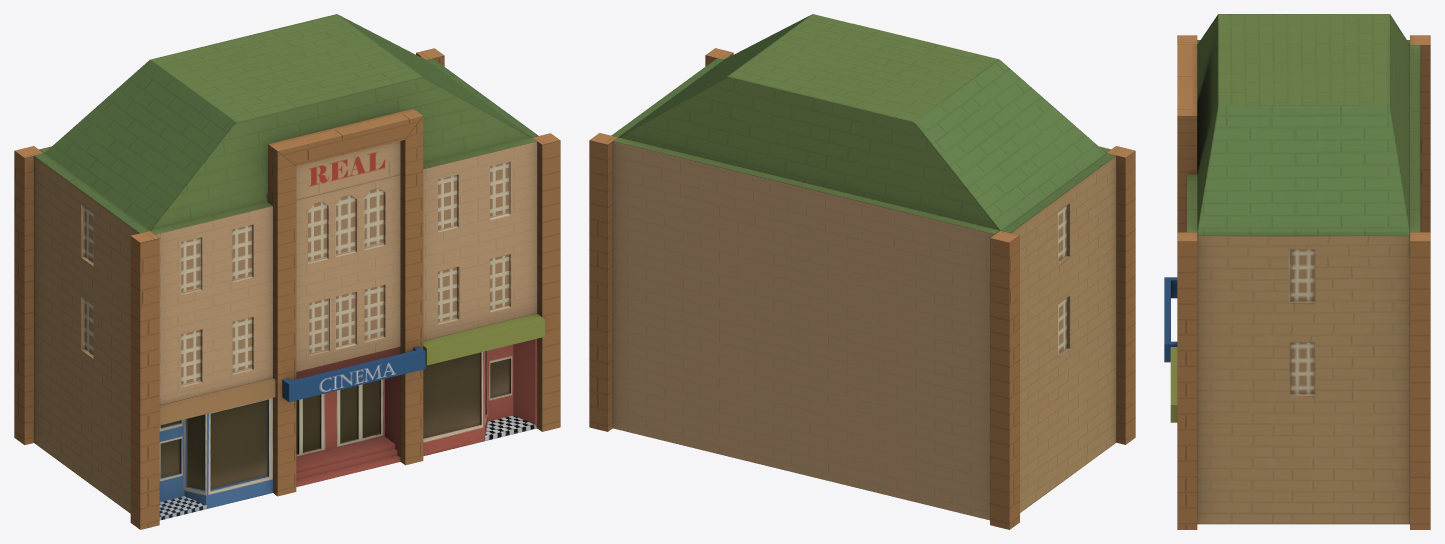
Rendered from Cinema.gltf.
3 views of the same model, side by side, from view 1: azimuth 30°, elevation 25°; view 2: azimuth 150°, elevation 25°; view 3: azimuth 270°, elevation 25° (orthographic).
Parts seen in each view (by area): view 1: node-0; view 2: node-0; view 3: node-0.
Boxes of the visible parts, box(x1,y1,x2,y2) form: node-0: box(14, 14, 560, 529); node-0: box(589, 14, 1135, 529); node-0: box(1164, 14, 1430, 529).
Bounding box in the file's own units: 22.94 × 19.03 × 12.53.
Materials: 1 (1 with a texture image).
